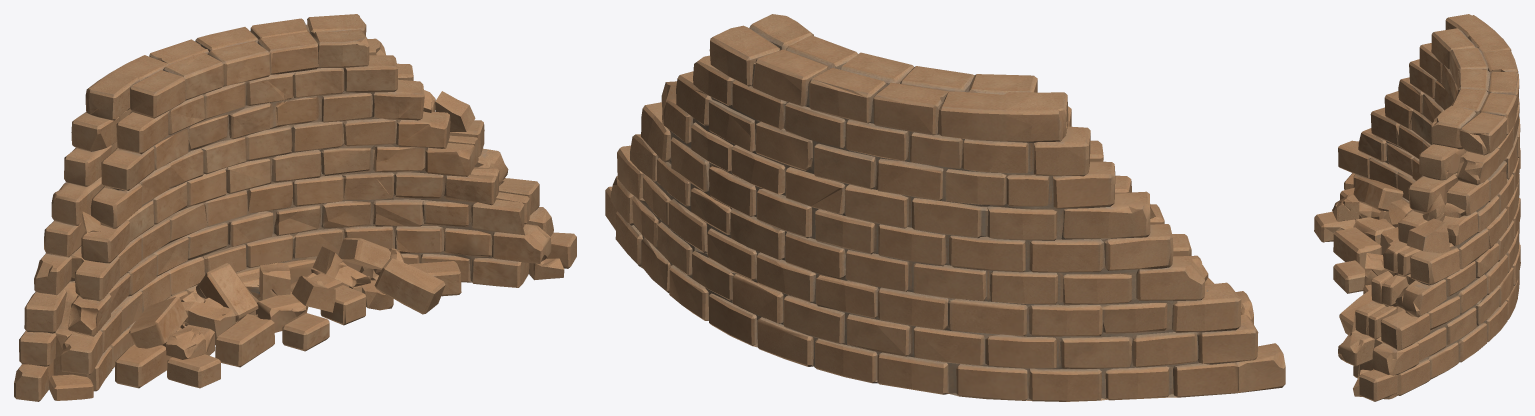
The model's file is cover_ruin.glb.
3 renders of one model, left to right at view 1: azimuth 30°, elevation 25°; view 2: azimuth 150°, elevation 25°; view 3: azimuth 270°, elevation 25°, orthographic. The views are drawn at different scales.
Bounding box in the file's own units: 1.9 × 0.7844 × 0.6954.
1 material, 1 textured.
